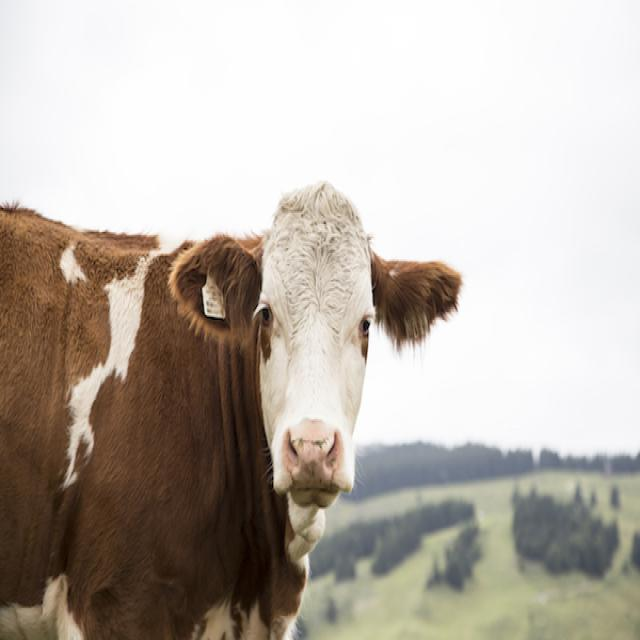cowFace: (159, 154, 472, 528)
